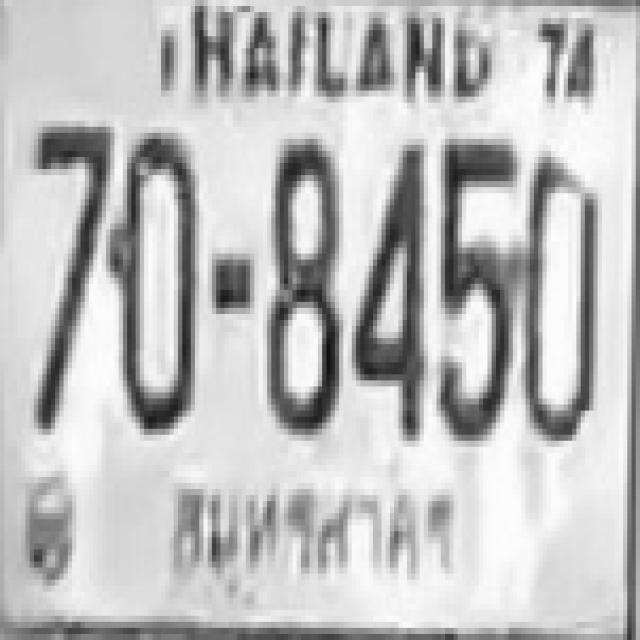0: (108, 130, 197, 426), (517, 145, 598, 435)
4: (352, 139, 424, 435)
5: (434, 133, 515, 435)
7: (28, 120, 112, 417), (28, 121, 112, 344)
8: (263, 133, 339, 429)
SamutSakhon: (162, 472, 460, 582)
